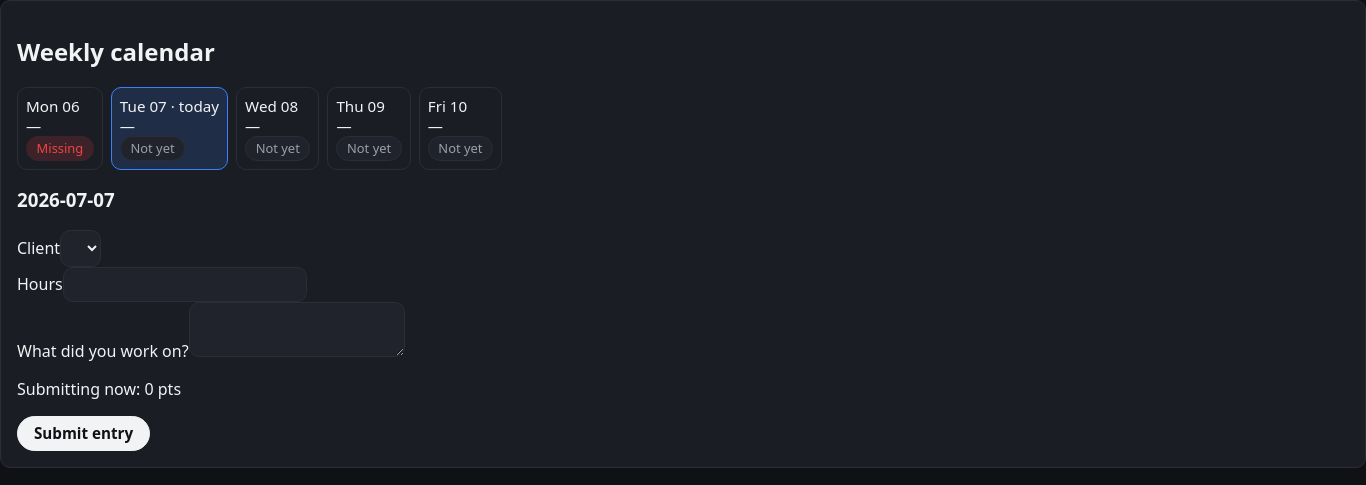
Test: WeeklyCalendar › does not show a live points hint when a past day is selected
This screenshot has width=1366, height=485.
What coordinates should you click on to do the following:
click the button with aria-label "2026-07-06"
I would click on:
 (60, 128)
Its box is [17,87,103,170].
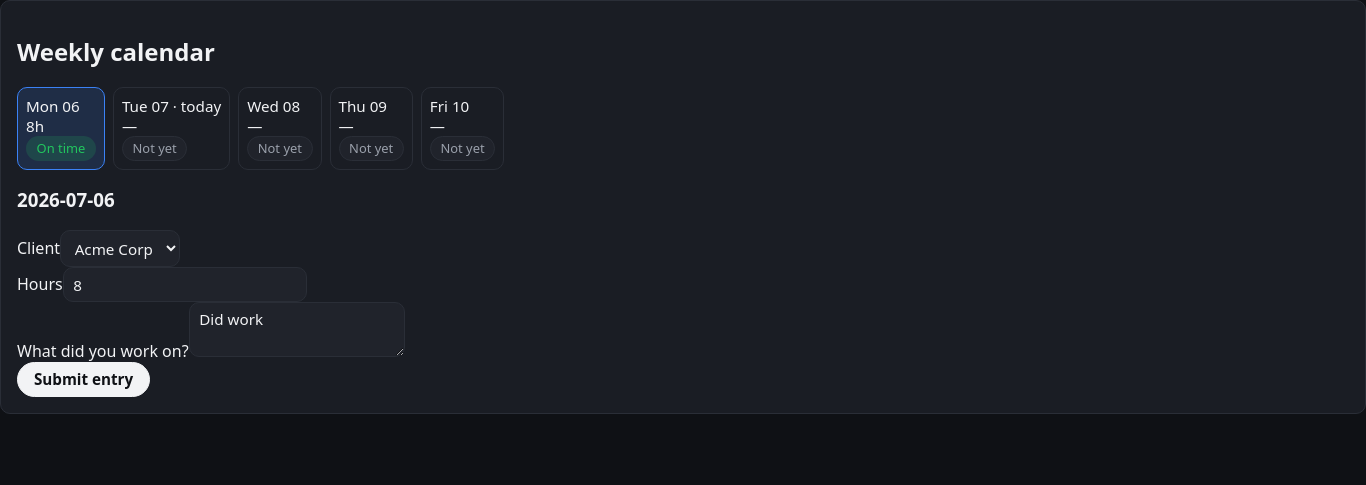
Expected: the heading "2026-07-06" is shown, [17,187,115,212]
Expected: the text "Submitting now:" is gone
